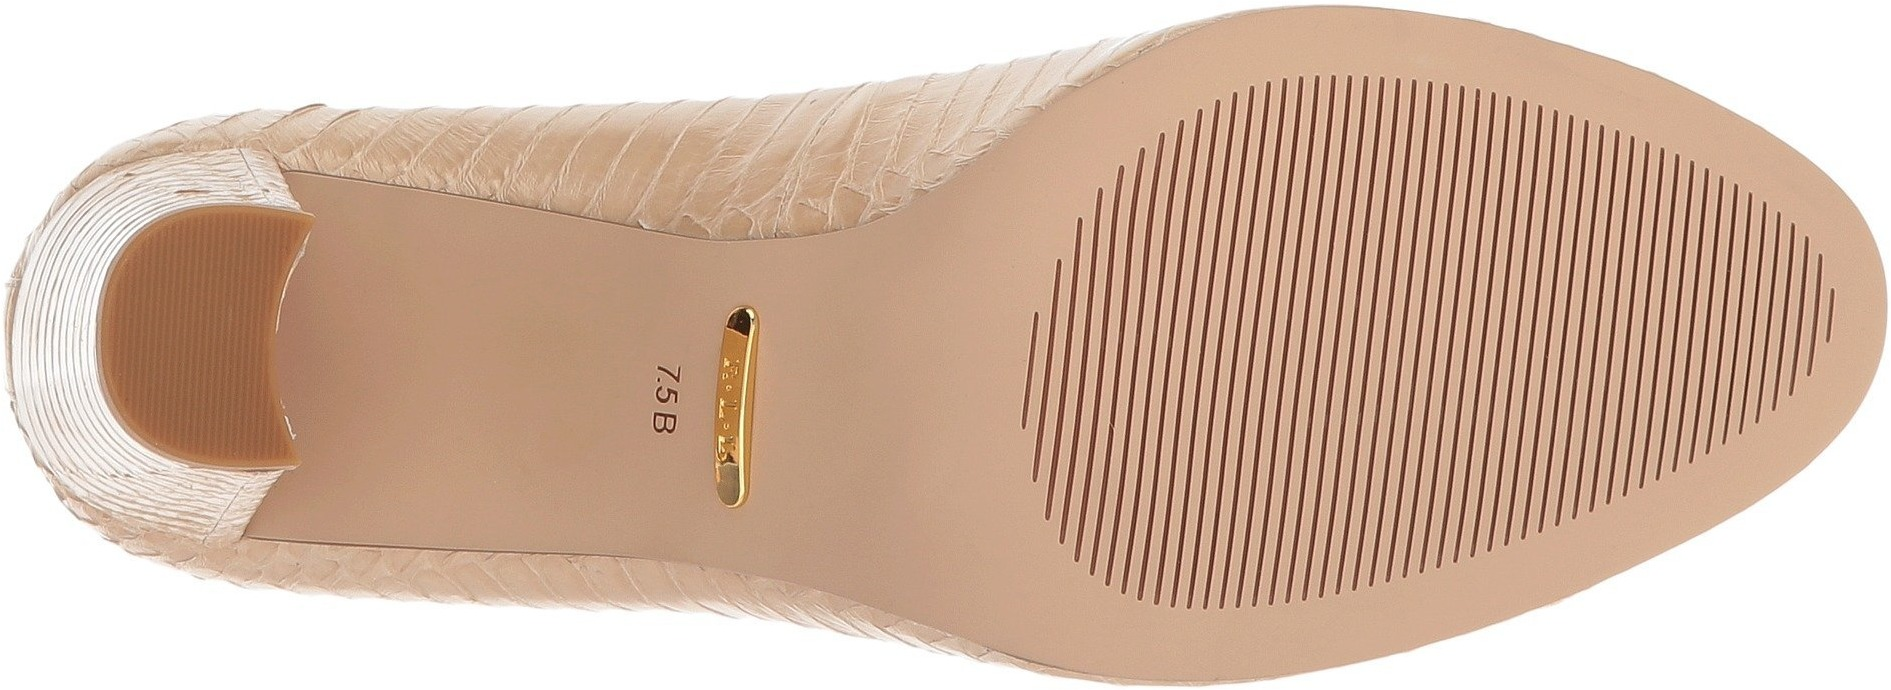line: (1173, 150, 1616, 495), (1050, 302, 1516, 548), (1223, 104, 1488, 327), (1075, 326, 1292, 552), (1300, 331, 1506, 552)
other: (96, 210, 312, 469), (1618, 210, 1819, 396)
